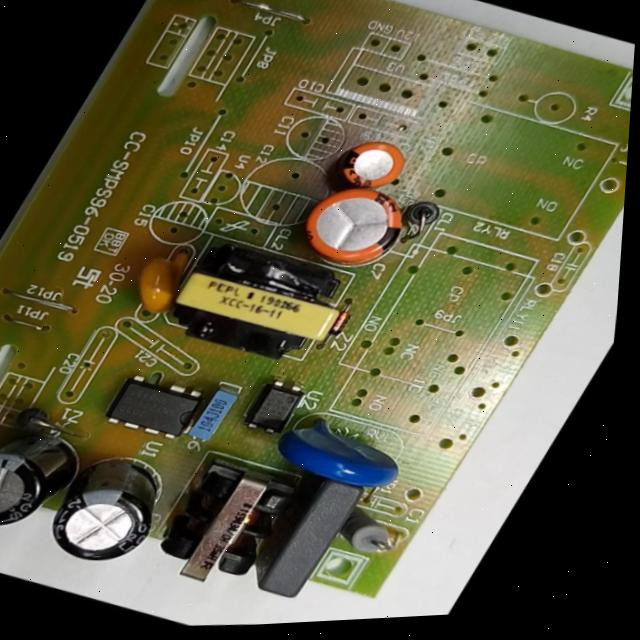Cap1: (270, 164, 434, 288)
Cap2: (317, 126, 425, 207)
Cap3: (19, 440, 191, 587)
Cap4: (0, 399, 106, 555)
MOSFET: (86, 358, 220, 455)
Mov: (248, 397, 427, 510)
Resistor: (321, 500, 410, 566)
Transformer: (140, 220, 372, 385), (127, 439, 321, 608)
